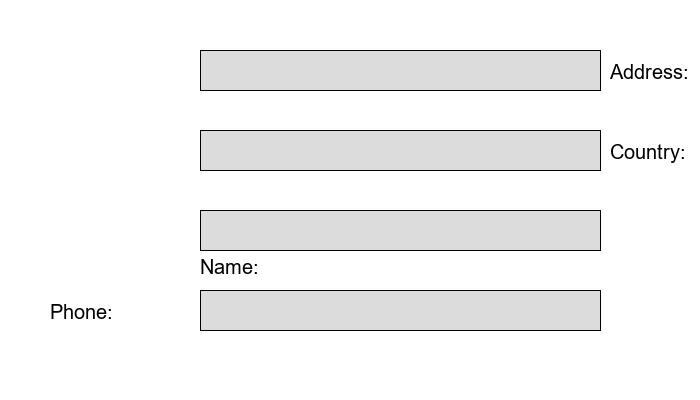Label: (610, 140, 680, 159), (610, 60, 684, 75), (50, 300, 107, 315), (200, 255, 253, 270)
Textbox: (200, 50, 600, 90), (200, 130, 600, 170), (200, 210, 600, 250), (200, 290, 600, 330)
